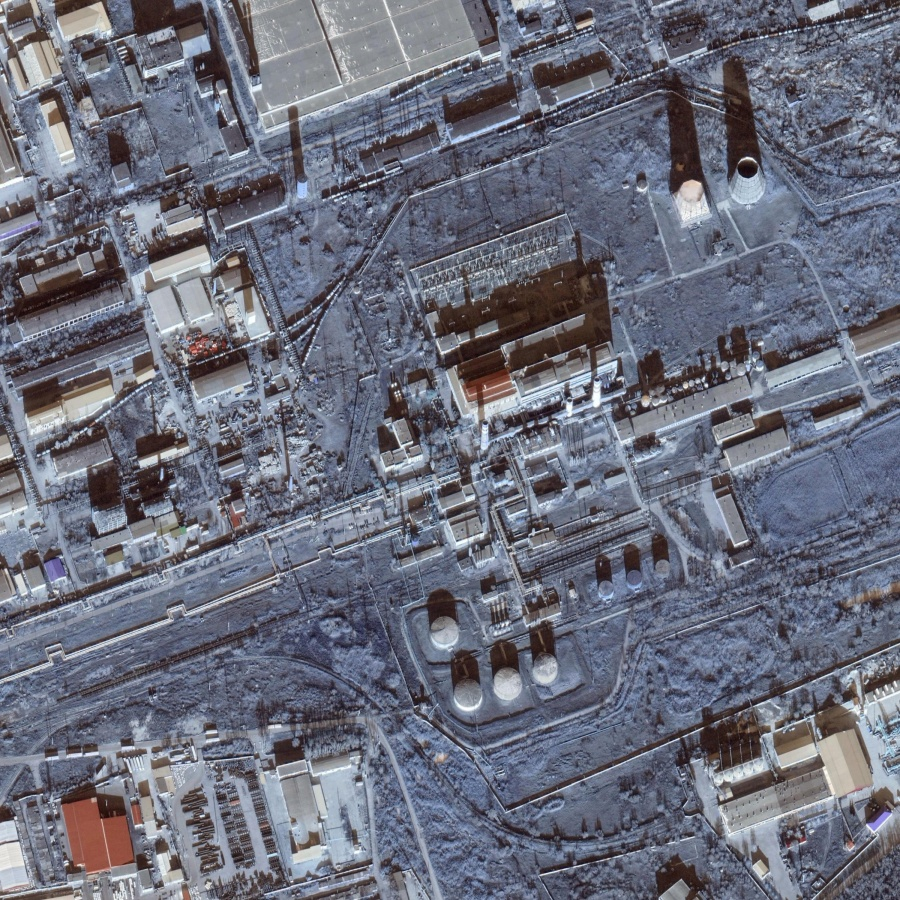PowerPlant: (409, 128, 809, 716)
